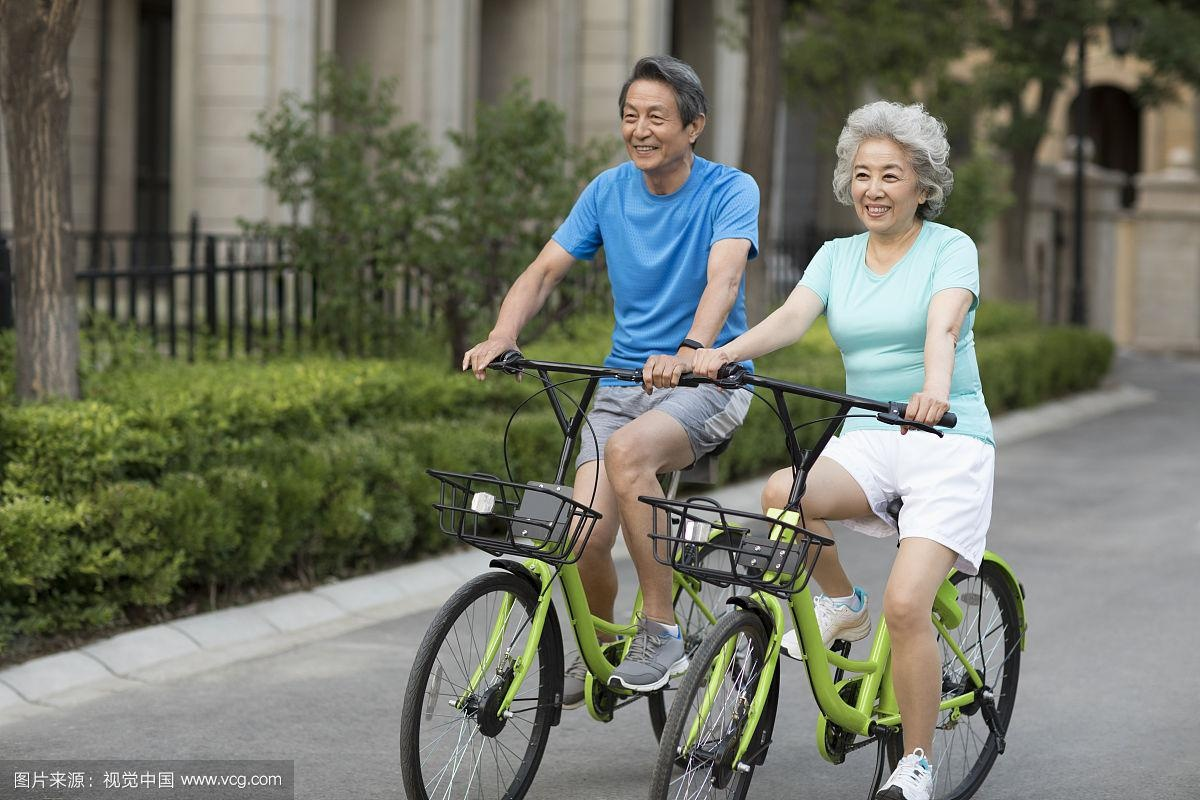non-vehicle: (387, 334, 777, 800), (657, 361, 1026, 800)
